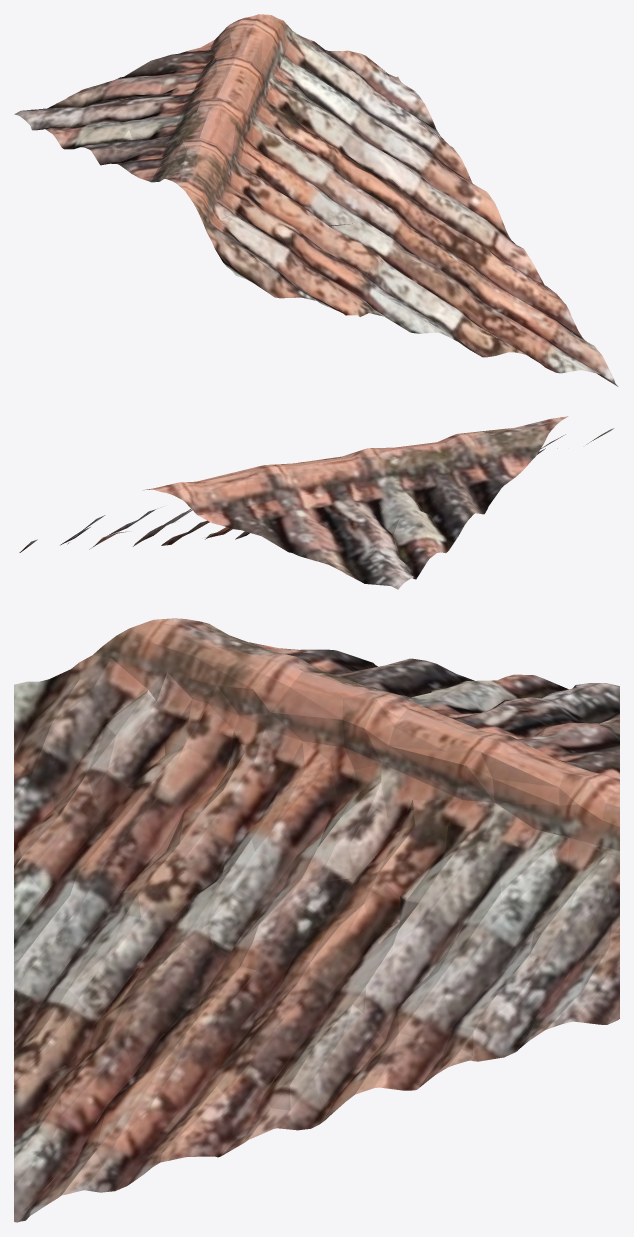
3 renders of one model, top to bottom at view 1: azimuth 30°, elevation 25°; view 2: azimuth 150°, elevation 25°; view 3: azimuth 270°, elevation 25°, orthographic. The views are drawn at different scales.
Size of the model in its own units: 1.67 by 1.06 by 1.67.
Materials: 3 (3 with a texture image).
